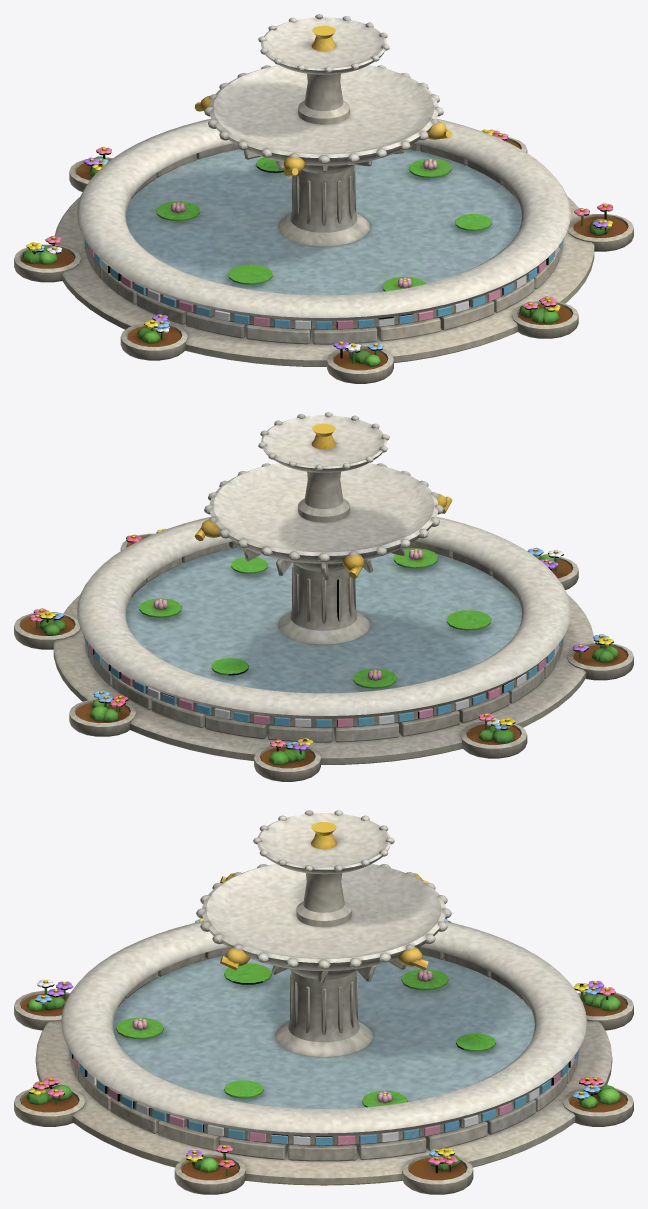
File: fountain.glb
3 renders of one model, top to bottom at view 1: azimuth 30°, elevation 25°; view 2: azimuth 150°, elevation 25°; view 3: azimuth 270°, elevation 25°, orthographic. The views are drawn at different scales.
Parts seen in each view (by area): view 1: lathe; view 2: lathe; view 3: lathe.
Part boxes in pixels (x1,y1,x2,y2): lathe: [14, 14, 633, 383]; lathe: [14, 412, 633, 781]; lathe: [14, 810, 633, 1194].
Size of the model in its own units: 10.74 by 4.55 by 10.76.
1 material, 1 textured.
